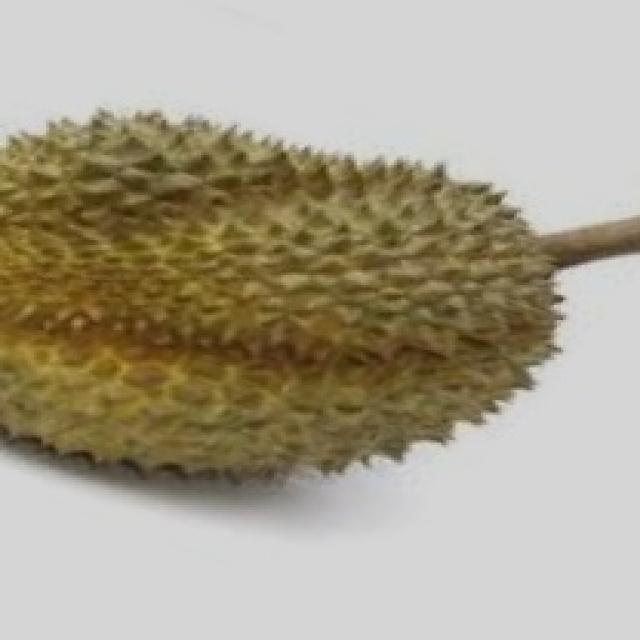fruit: (249, 115, 609, 530), (0, 168, 357, 552)
